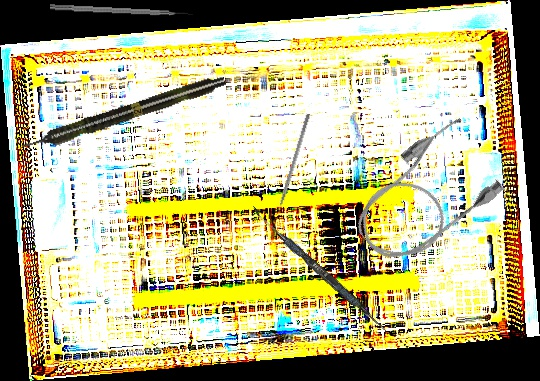Cannula: (337, 111, 513, 278)
Handpiece: (19, 71, 228, 156)
Hook Surgical: (273, 113, 311, 222), (49, 4, 194, 19)
Spatula Surgical: (247, 206, 392, 334)
